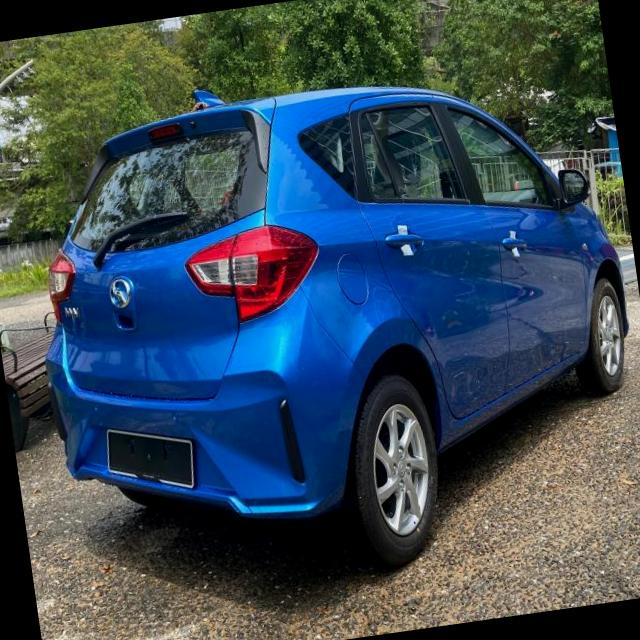PeroduaMyvi: (9, 34, 640, 613)
